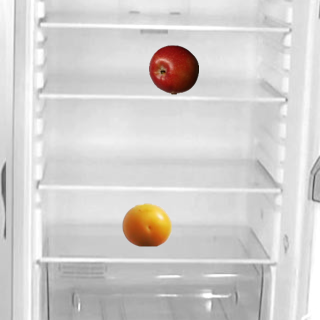Apple Braeburn: (148, 44, 198, 94)
Cherry Wax Yellow: (121, 199, 171, 249)
